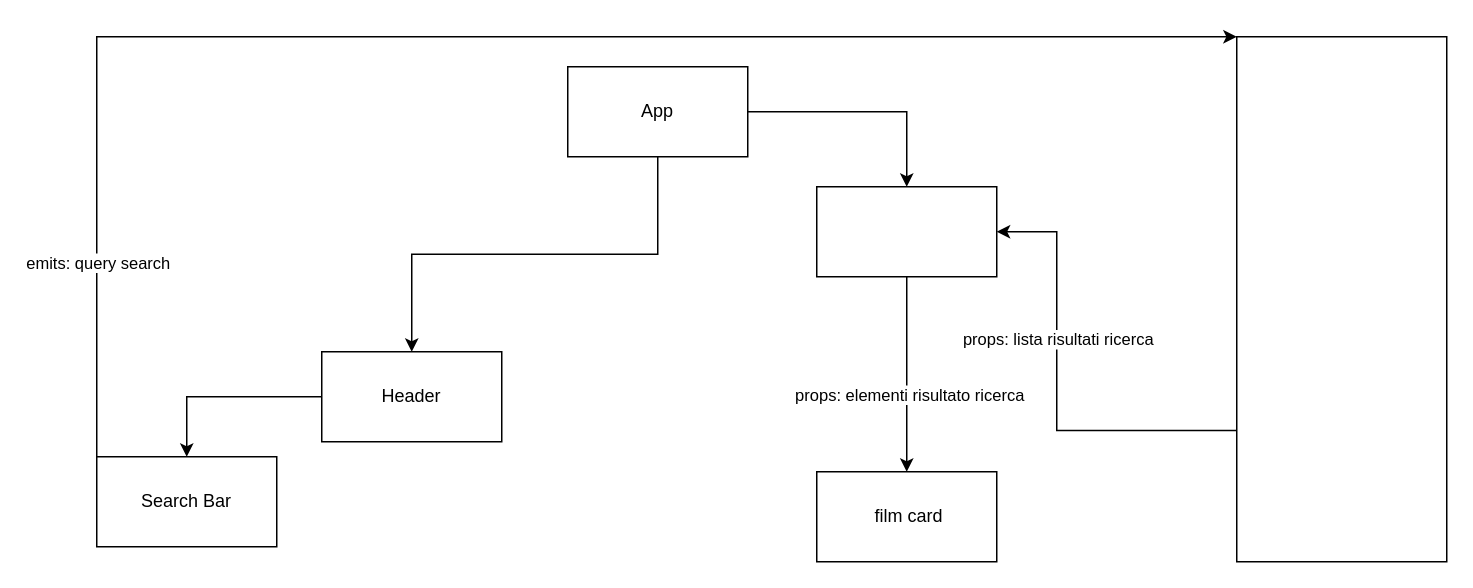
Some shapes in this 1473 by 588 pixel diagram are drawn without their labels. Here are the shapes that lost their labels. From the top down, the centre of each, then its label:
point (906, 231): Main card container
point (1341, 298): store: lista risultati
